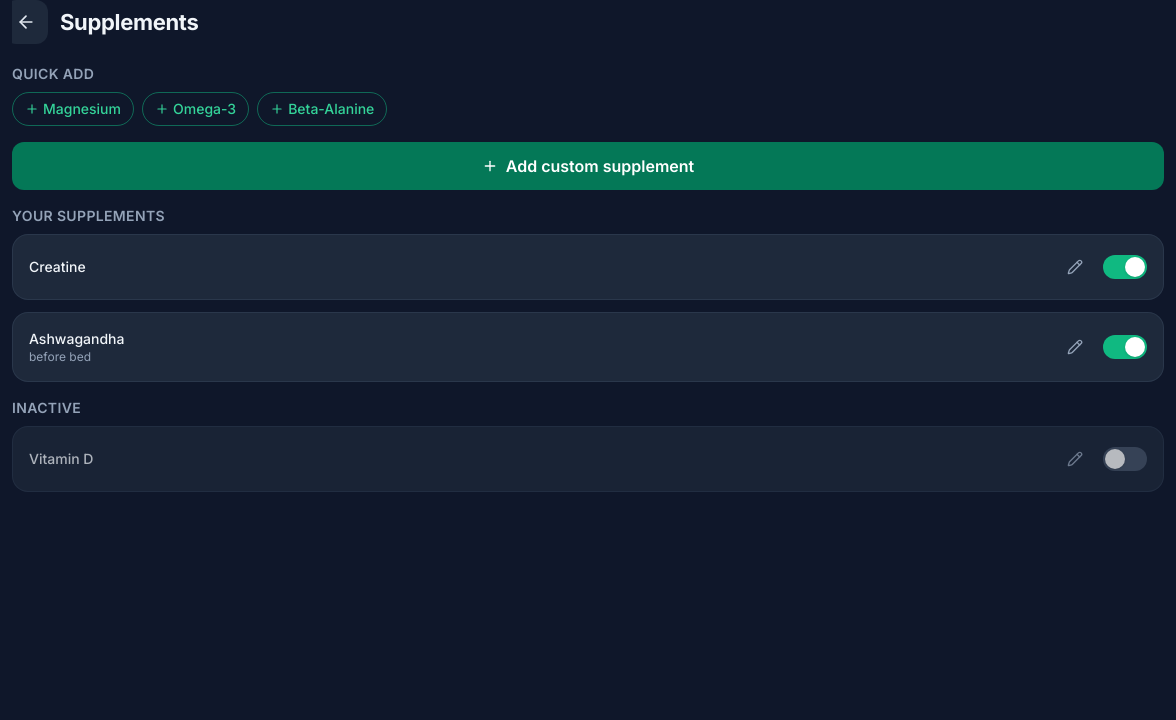
Test: custom add › surfaces save failures in the editor
Click the button "Add custom supplement": point(588, 166) x1=12 y1=142 x2=1164 y2=190
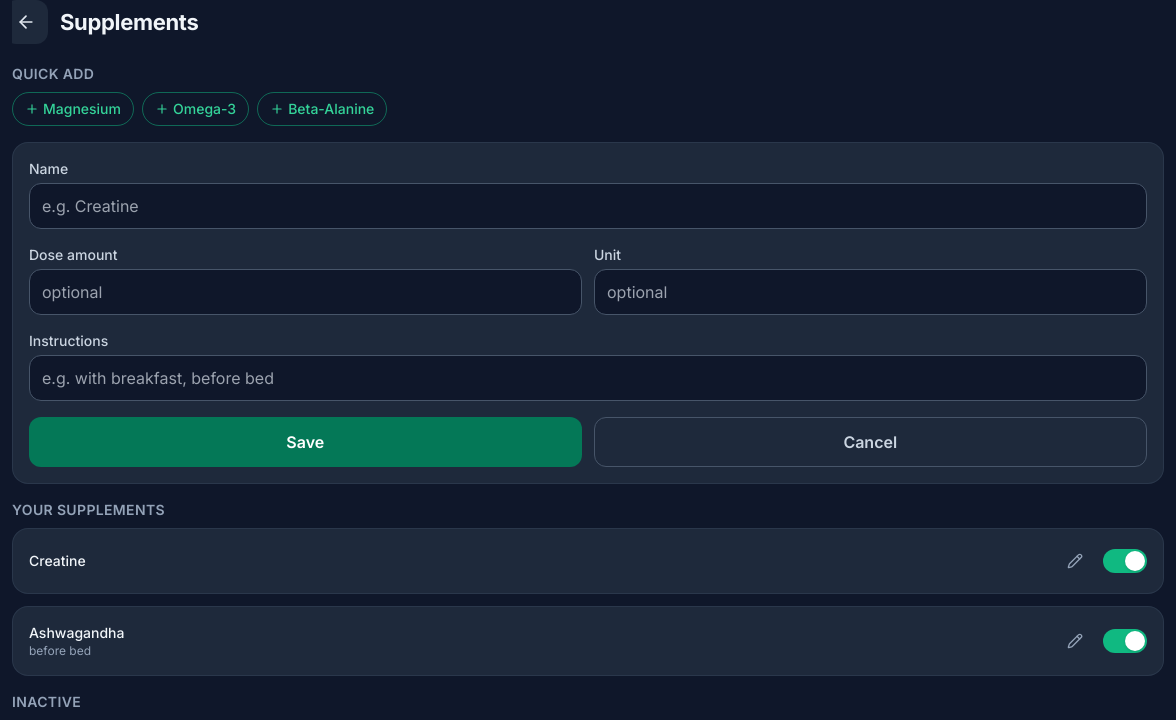
In the field labelled "Name": point(588, 206) x1=29 y1=183 x2=1147 y2=229, type "Zinc"
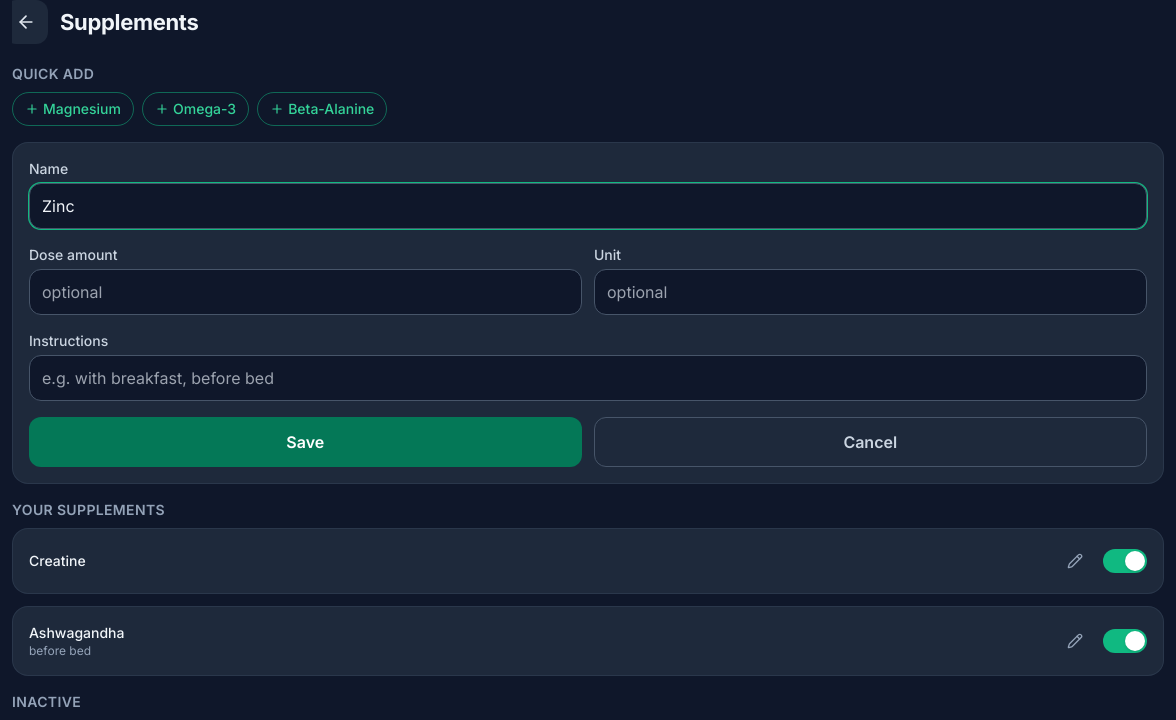
Click the button "Save": point(305, 442) x1=29 y1=417 x2=582 y2=467
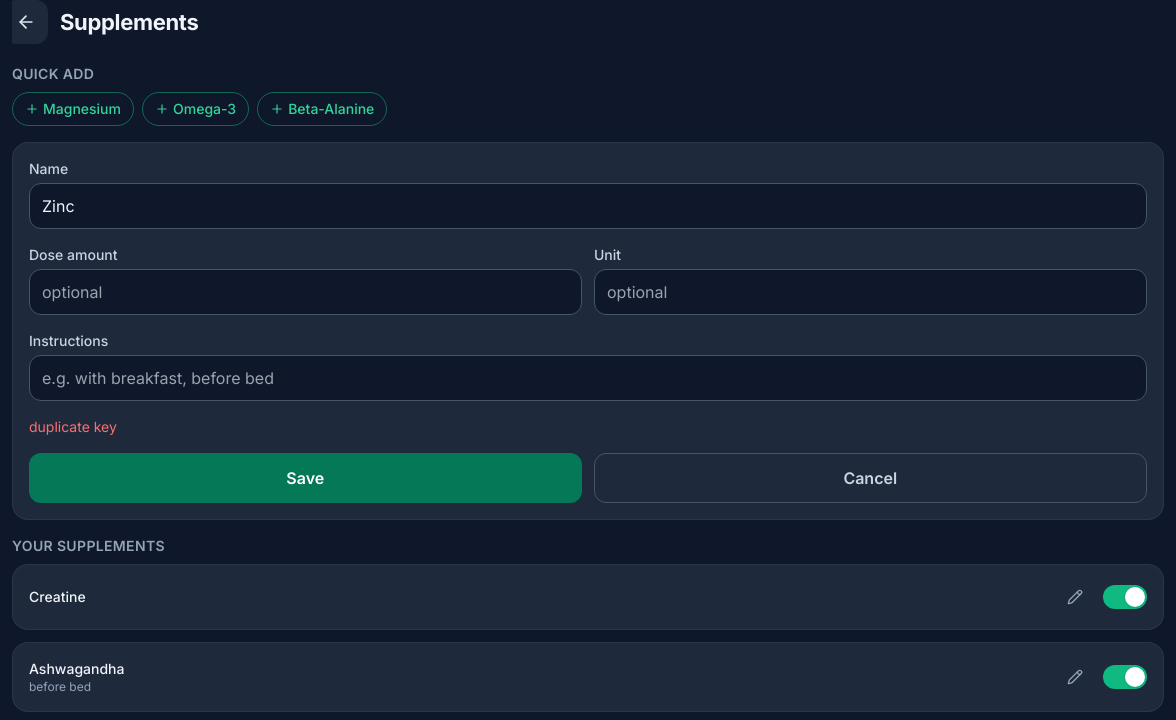
Check: the message reads "duplicate key", box x1=29 y1=418 x2=117 y2=435
